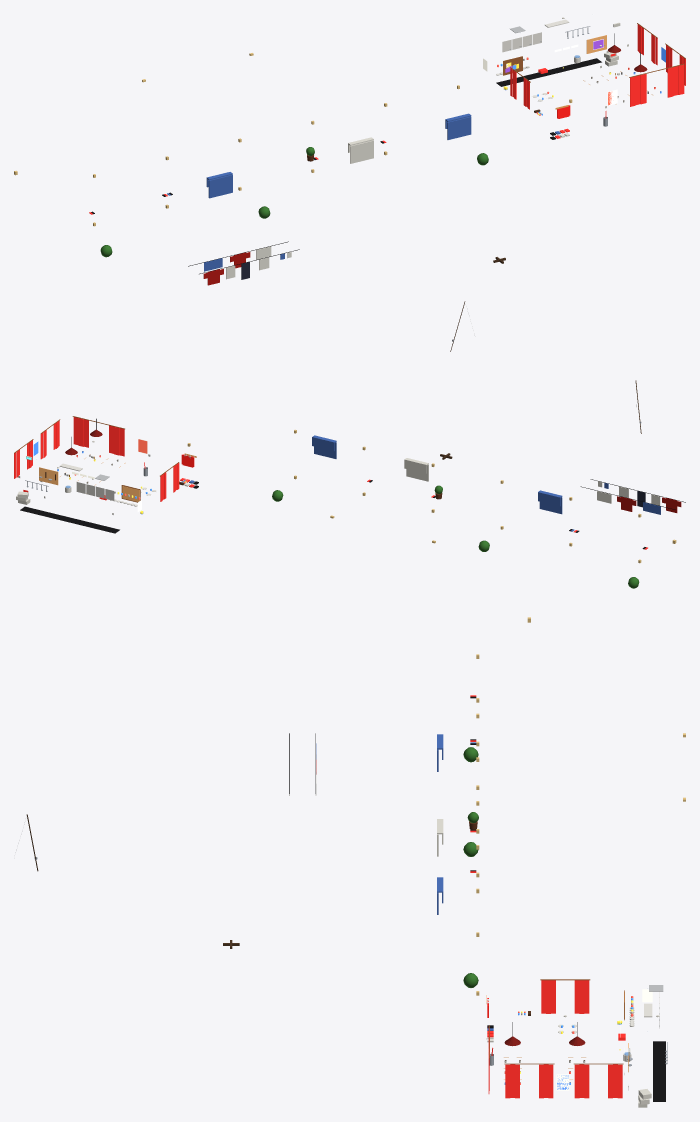
Rendered from SM_Slifer_NoCol.fbx.
3 views of the same model, one above another, from view 1: azimuth 30°, elevation 25°; view 2: azimuth 150°, elevation 25°; view 3: azimuth 270°, elevation 25° (orthographic). The views are drawn at different scales.
Parts seen in each view (by area): view 1: SM_Slifer_NoCol; view 2: SM_Slifer_NoCol; view 3: SM_Slifer_NoCol.
Boxes of the visible parts, <box> form: SM_Slifer_NoCol: <box>14,14,685,351</box>; SM_Slifer_NoCol: <box>14,380,685,588</box>; SM_Slifer_NoCol: <box>15,617,685,1107</box>.
Bounding box in the file's own units: 39.45 × 5.19 × 28.16.
